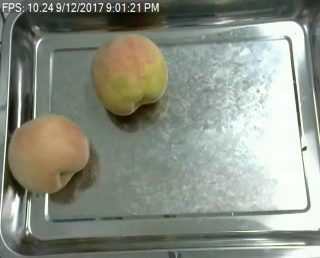Peach: (8, 113, 89, 194), (93, 33, 168, 117)
